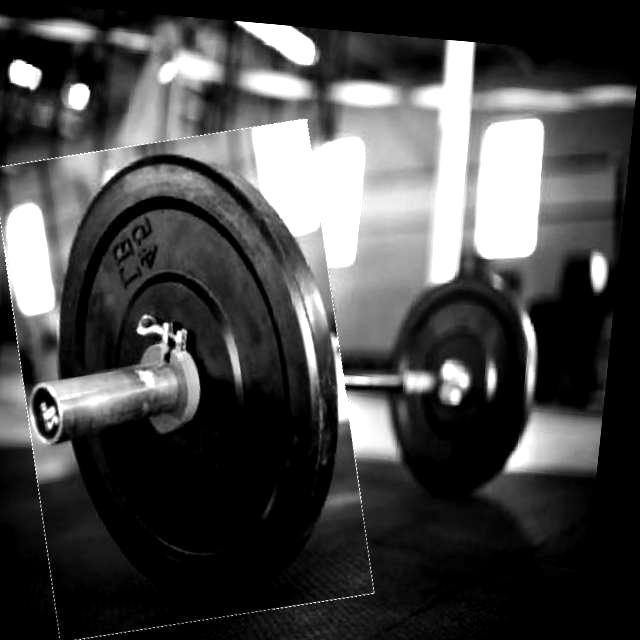barbell: (1, 110, 397, 640)
